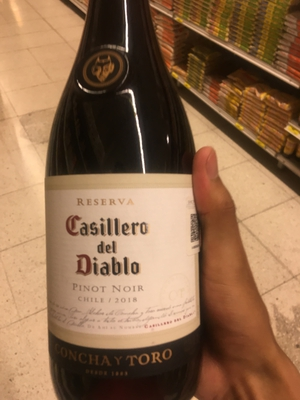casillero del diablo pinot noir: (44, 20, 216, 400)
